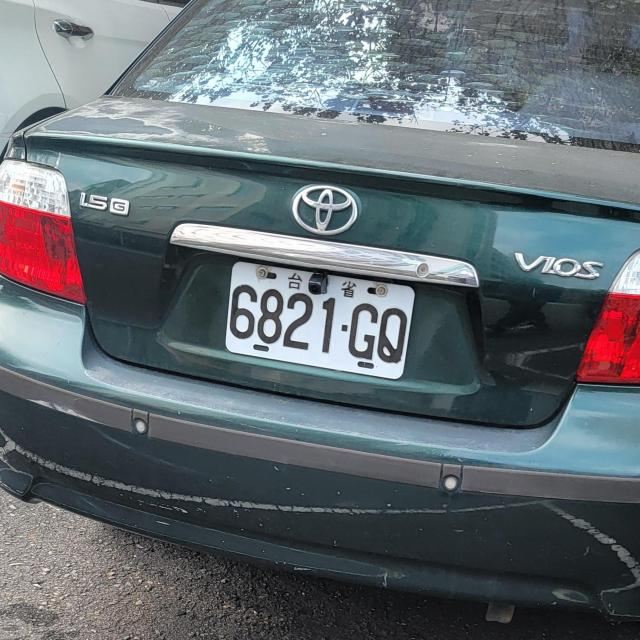W: (220, 257, 419, 381)
